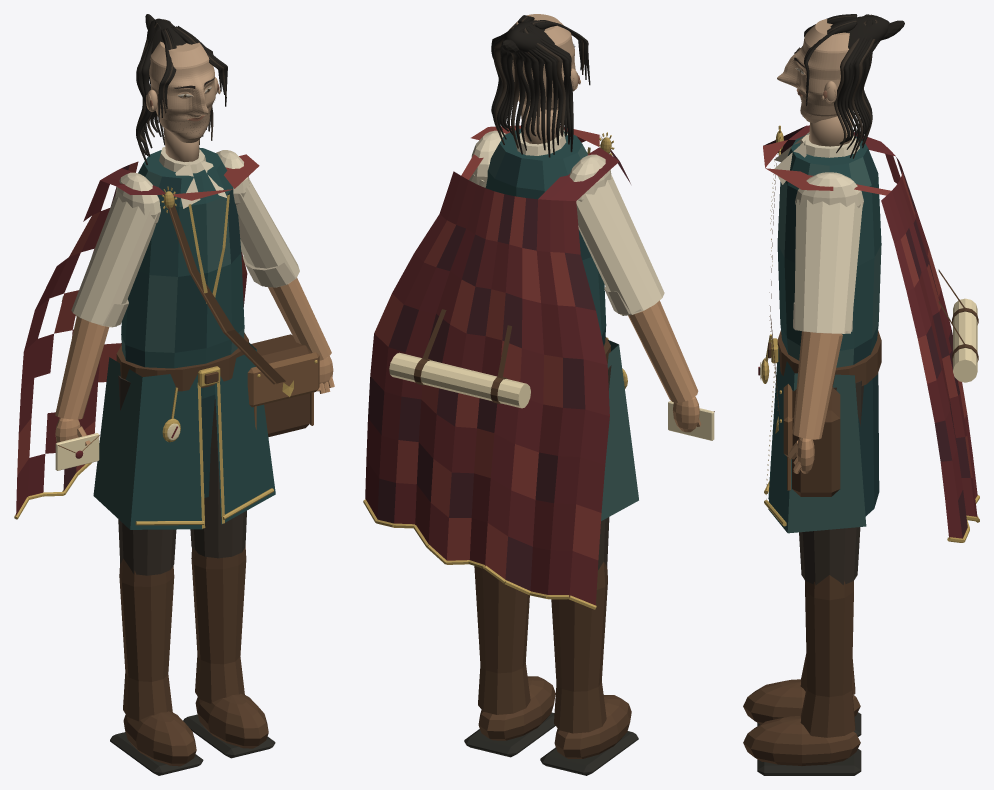
The model's file is courier.glb.
The picture shows the model from 3 angles, left to right: view 1: azimuth 30°, elevation 25°; view 2: azimuth 150°, elevation 25°; view 3: azimuth 270°, elevation 25°; orthographic projection. The views are drawn at different scales.
Visible parts, largest first — view 1: Waistcoat, Split_coat_R, Cloak_folds, Boot_shaft_R, Boot_shaft_L, Split_coat_L, Linen_sleeve_R, Face, Forearm_R, Linen_sleeve_L, Trouser_thigh_L, Boot_toe_L (+17 smaller); view 2: Cloak_folds, Boot_shaft_R, Boot_shaft_L, Linen_sleeve_R, Waistcoat, Split_coat_R, Map_roll, Forearm_R, Boot_toe_L, Boot_toe_R, Boot_sole_R, Boot_sole_L (+8 smaller); view 3: Cloak_folds, Waistcoat, Linen_sleeve_L, Boot_shaft_L, Split_coat_L, Boot_toe_L, Forearm_L, Face, Trouser_thigh_L, Messenger_satchel, Back_coat, Boot_toe_R (+13 smaller).
Part boxes in pixels (<box>): Waistcoat: <box>121,147,244,398</box>; Split_coat_R: <box>93,357,202,529</box>; Cloak_folds: <box>16,154,259,515</box>; Boot_shaft_R: <box>119,558,174,721</box>; Boot_shaft_L: <box>191,544,246,703</box>; Split_coat_L: <box>214,342,275,524</box>; Linen_sleeve_R: <box>71,193,158,327</box>; Face: <box>149,41,215,142</box>; Forearm_R: <box>55,316,109,419</box>; Linen_sleeve_L: <box>236,179,299,287</box>; Trouser_thigh_L: <box>190,396,246,558</box>; Boot_toe_L: <box>195,693,268,748</box>; Cloak_folds: <box>365,125,630,605</box>; Boot_shaft_R: <box>551,562,607,733</box>; Boot_shaft_L: <box>474,566,530,714</box>; Linen_sleeve_R: <box>576,174,664,315</box>; Waistcoat: <box>485,128,606,346</box>; Split_coat_R: <box>601,340,638,520</box>; Map_roll: <box>389,352,530,408</box>; Forearm_R: <box>628,300,698,402</box>; Boot_toe_L: <box>478,676,555,740</box>; Boot_toe_R: <box>554,695,631,758</box>; Boot_sole_R: <box>540,731,638,775</box>; Boot_sole_L: <box>464,712,555,757</box>; Cloak_folds: <box>763,125,977,538</box>; Waistcoat: <box>777,133,881,367</box>; Linen_sleeve_L: <box>794,199,862,333</box>; Boot_shaft_L: <box>800,575,855,737</box>; Split_coat_L: <box>768,348,866,533</box>; Boot_toe_L: <box>743,716,860,765</box>; Forearm_L: <box>792,331,842,439</box>; Face: <box>777,19,849,123</box>; Trouser_thigh_L: <box>799,380,863,585</box>; Messenger_satchel: <box>792,387,840,496</box>; Back_coat: <box>858,373,879,516</box>; Boot_toe_R: <box>743,679,860,724</box>.
Bounding box in the file's own units: 0.7395 × 1.75 × 0.5149.
